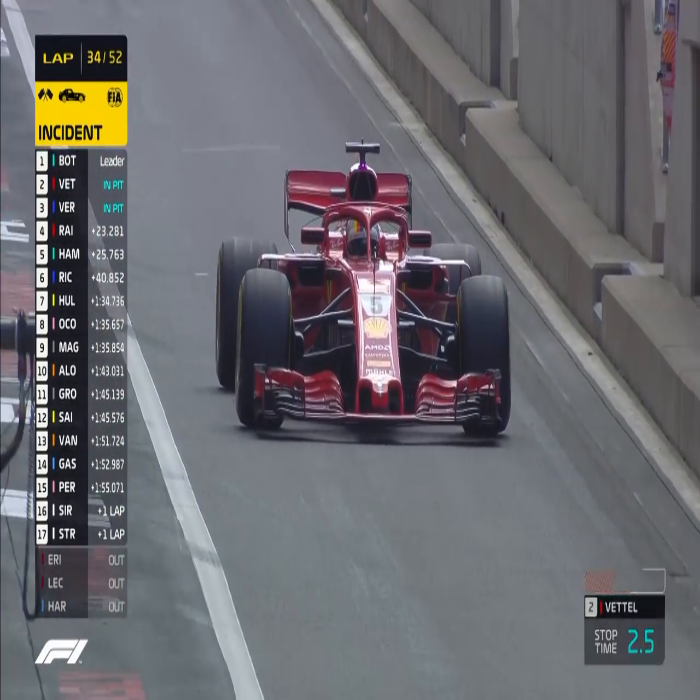f1_car: (199, 129, 555, 468)
